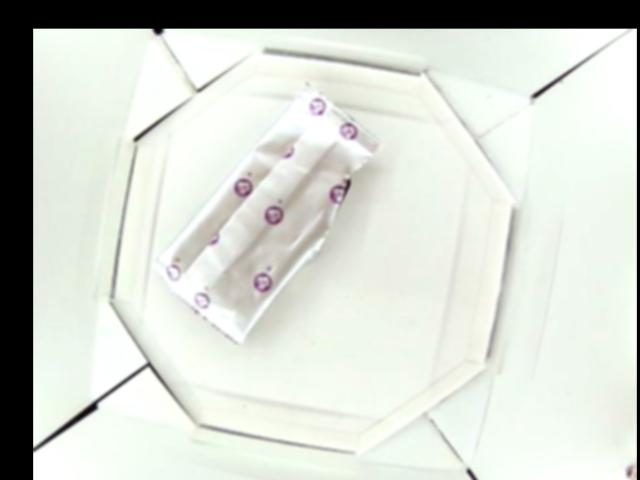Medicine: (153, 81, 378, 345)
